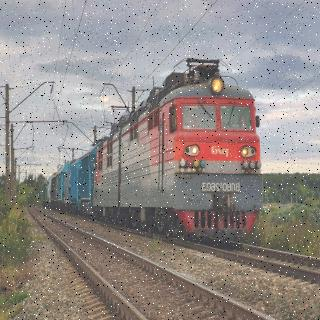poezd: (95, 88, 254, 235)
